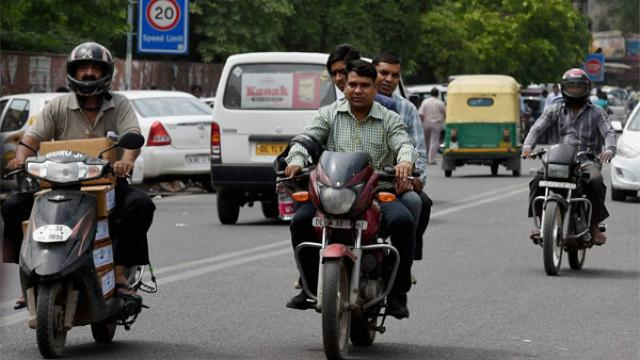licensePlate: (29, 223, 76, 245), (311, 217, 369, 231), (538, 177, 579, 190)
motorcycle: (273, 43, 439, 360), (2, 34, 158, 360), (517, 66, 620, 281)
withHelmet: (66, 40, 116, 97), (556, 68, 595, 111)
withoutHelmet: (341, 59, 379, 113), (325, 45, 360, 92), (376, 47, 406, 97)
